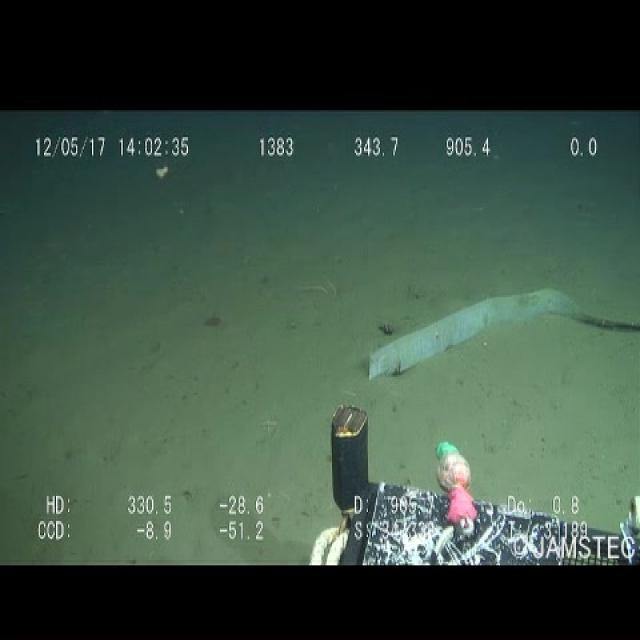plastic: (361, 283, 639, 382)
